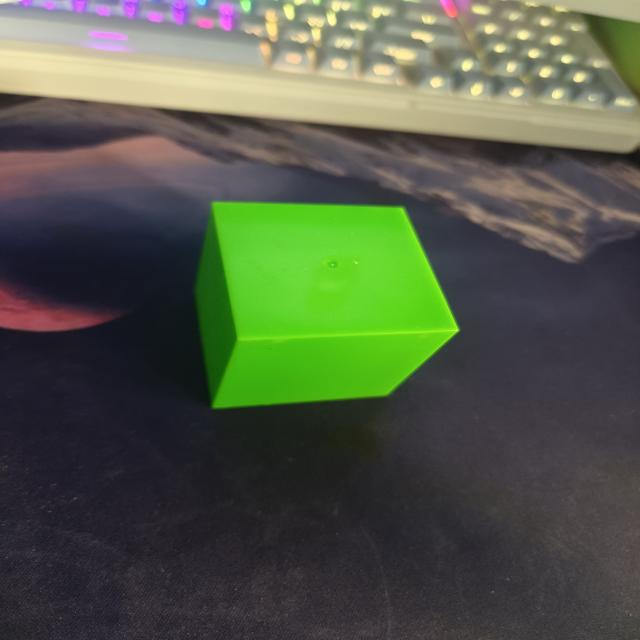green: (177, 193, 483, 448)
